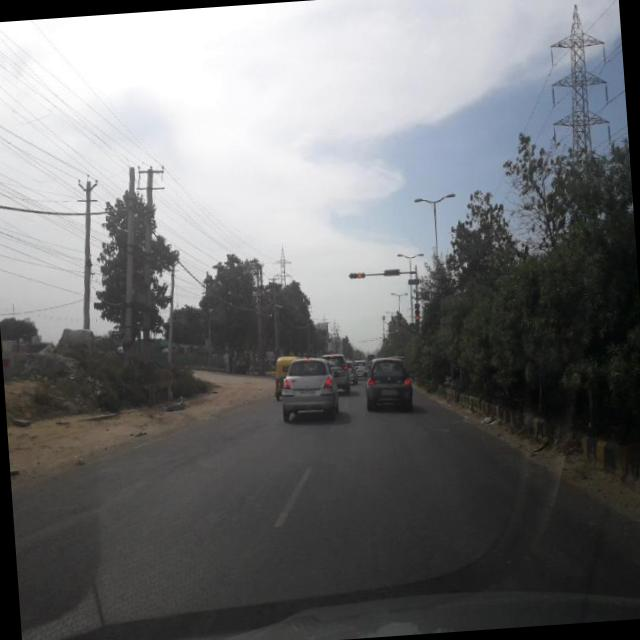crack: (19, 422, 598, 639)
